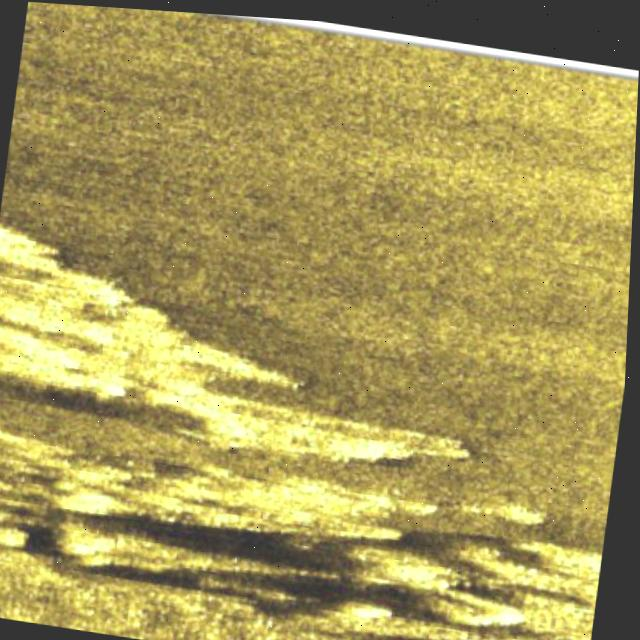bedrock group: (0, 216, 632, 640)
